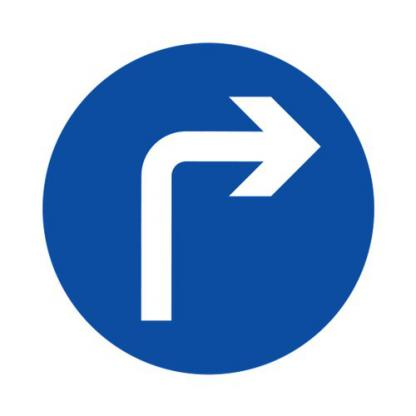right: (24, 23, 388, 384)
